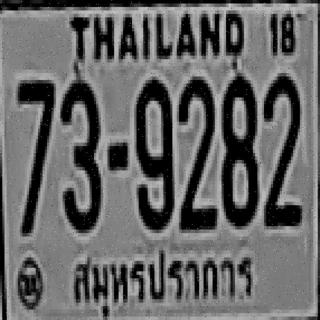N00: (135, 78, 171, 228)
N02: (177, 75, 215, 228), (262, 71, 300, 224), (262, 71, 300, 210)
N03: (61, 80, 98, 230)
N07: (16, 76, 54, 233)
N08: (222, 75, 255, 224)
N09: (134, 76, 172, 226)
P57: (66, 242, 256, 320)
